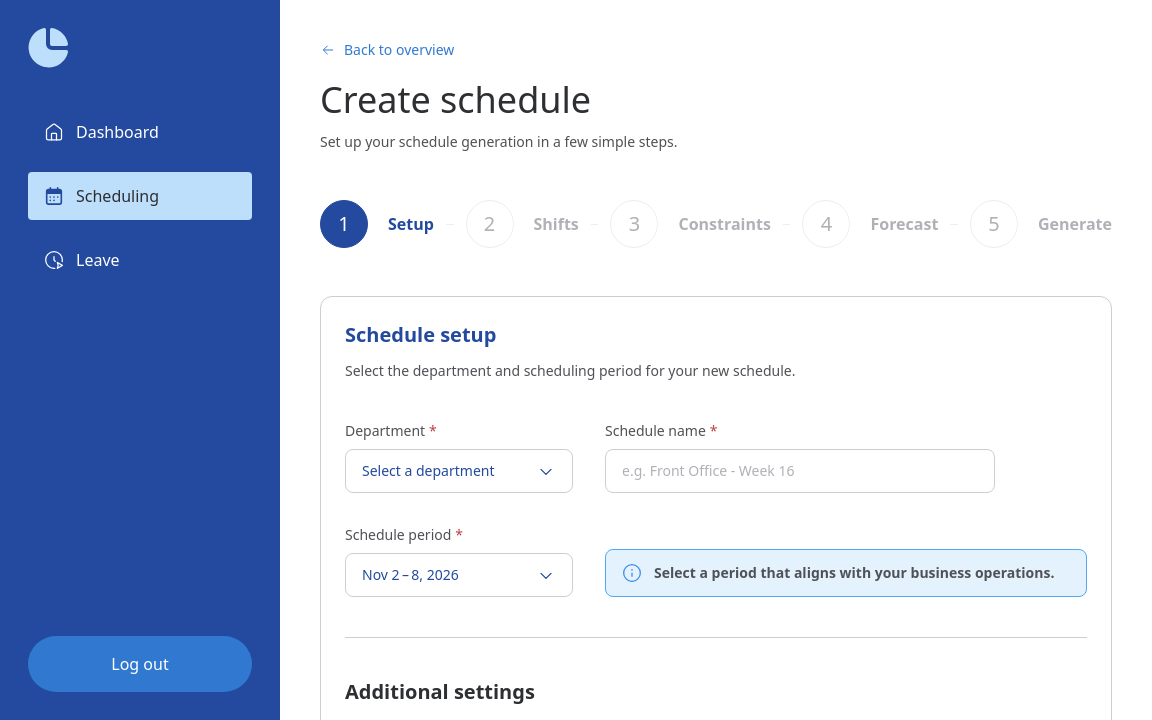
Scenario: Create Schedule: opening and setup › given_aRefusedPeriod_when_setupCompleted_then_saysSoOnThePeriod
This screenshot has width=1152, height=720.
Click the button "Select a department" at (459, 471), box [345,449,573,493]
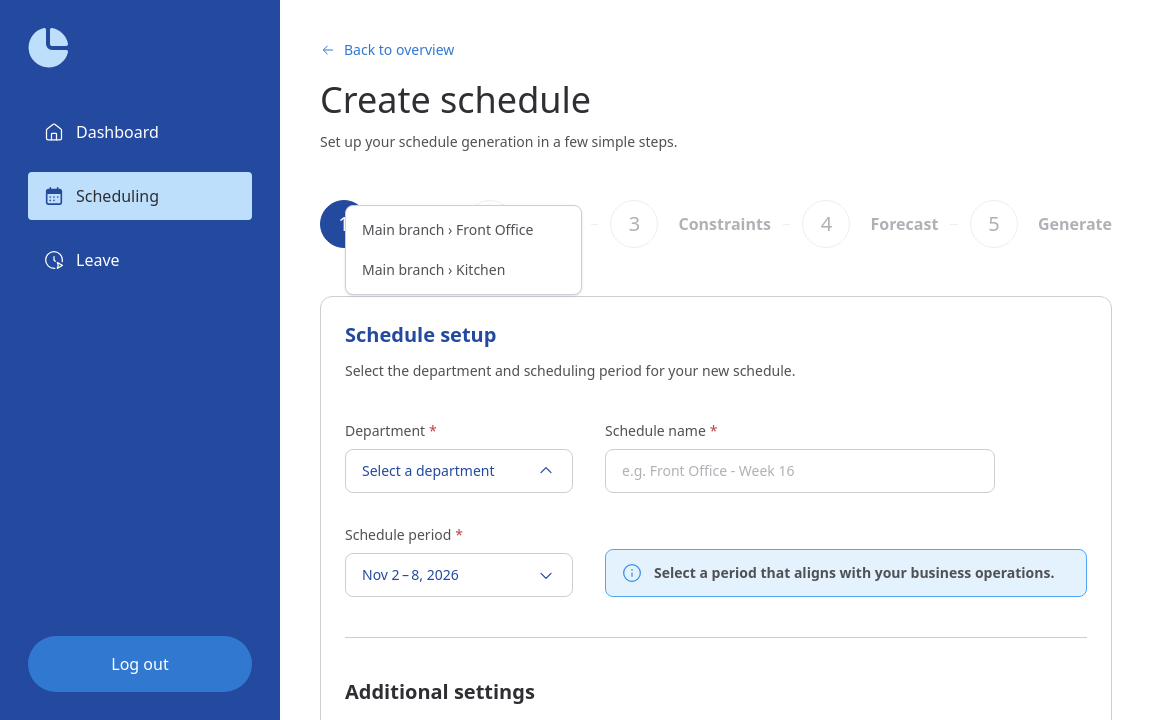
Click the option "Main branch › Front Office" at (448, 230), box [362,220,534,239]
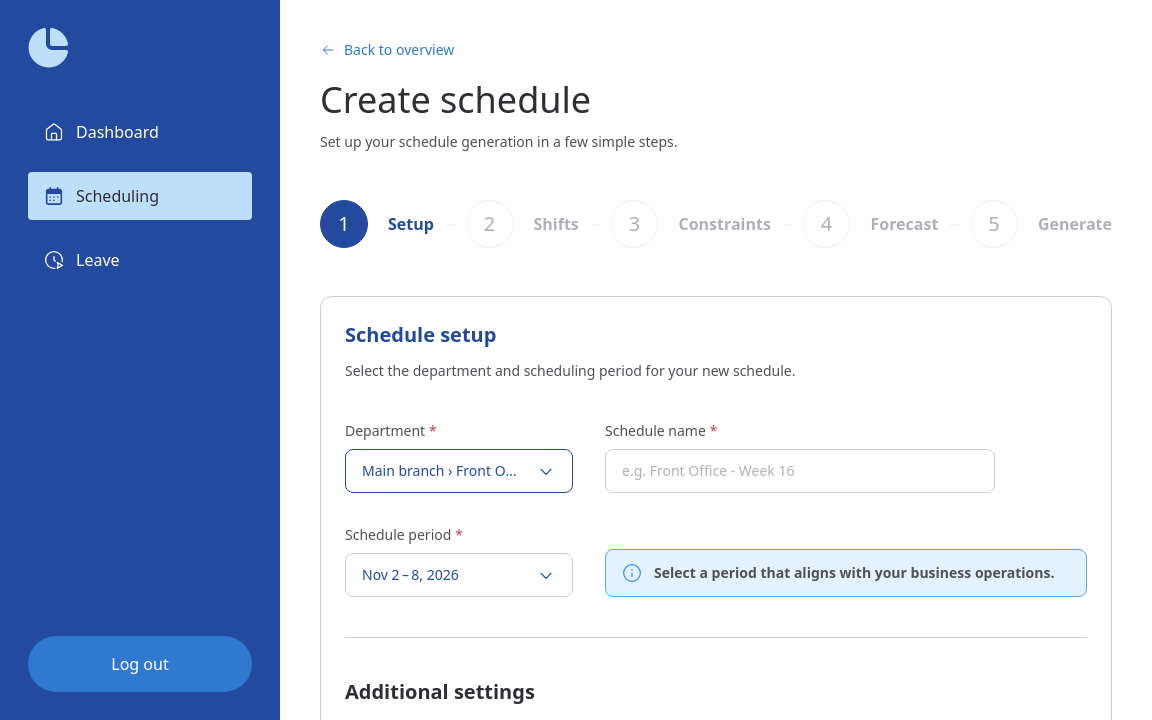
Type "Front Office - Week 42" into the field labelled "Schedule name*" at (800, 471), box [622,461,978,481]
(page scrolled)
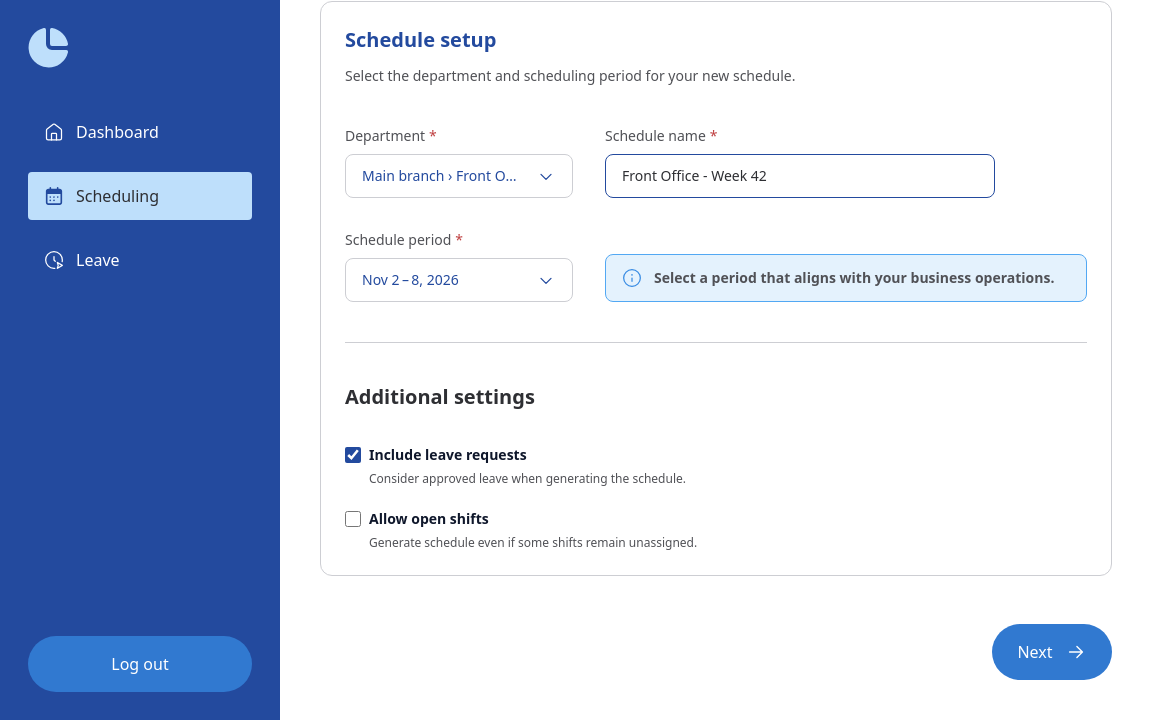
Click the button "Next" at (1052, 652), box [992,624,1112,680]
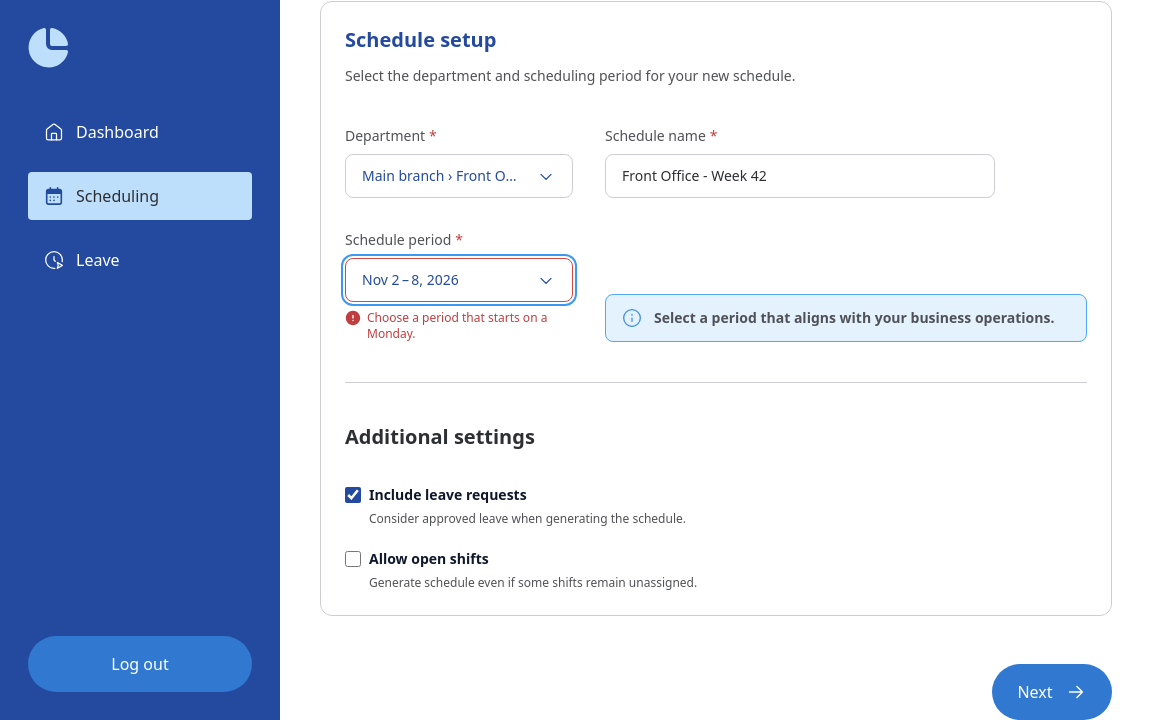
Result: the text "Choose a period that starts on a Monday." is shown at [367,310,573,342]
